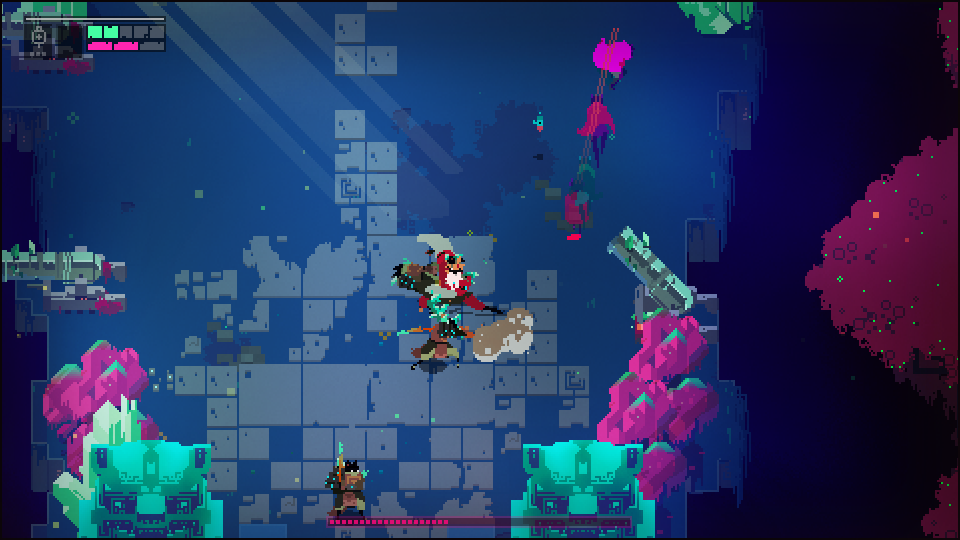hanged_man: (406, 229, 506, 325)
player: (587, 33, 632, 77)
